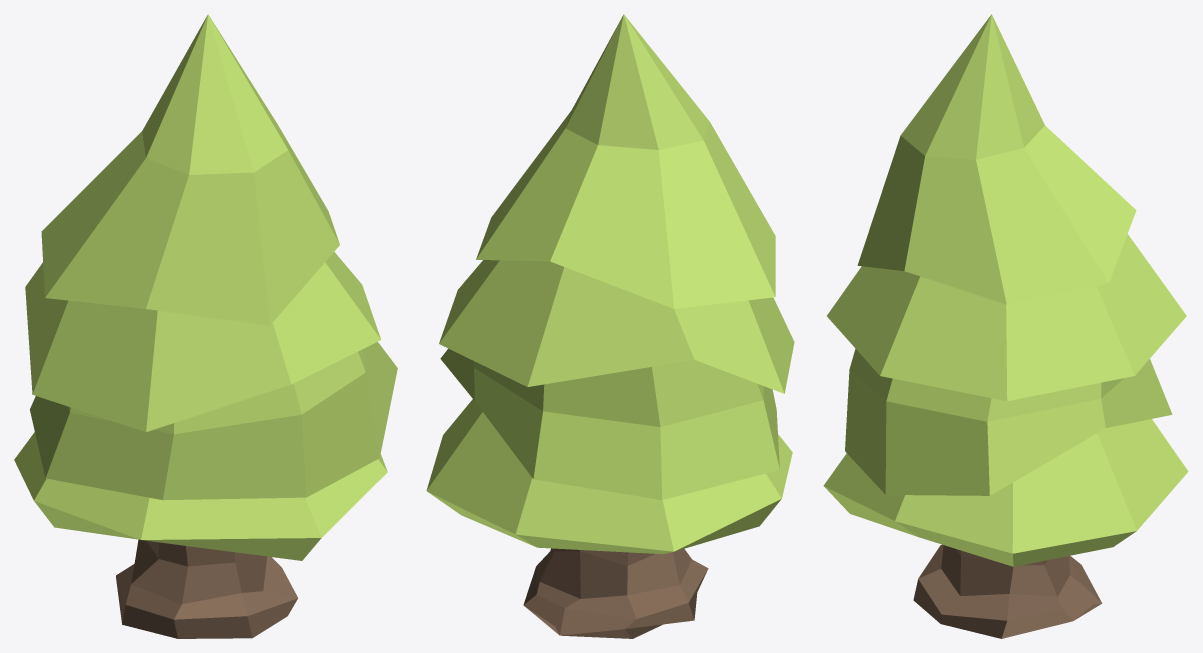
Rendered from tree.glb.
3 renders of one model, left to right at view 1: azimuth 30°, elevation 25°; view 2: azimuth 150°, elevation 25°; view 3: azimuth 270°, elevation 25°, orthographic. The views are drawn at different scales.
Visible parts, largest first — view 1: Circle.004; view 2: Circle.004; view 3: Circle.004.
Boxes of the visible parts, bbox=[...] form: Circle.004: bbox=[14, 14, 397, 638]; Circle.004: bbox=[426, 14, 794, 638]; Circle.004: bbox=[823, 14, 1188, 638].
Size of the model in its own units: 2.34 by 3.75 by 2.1.
